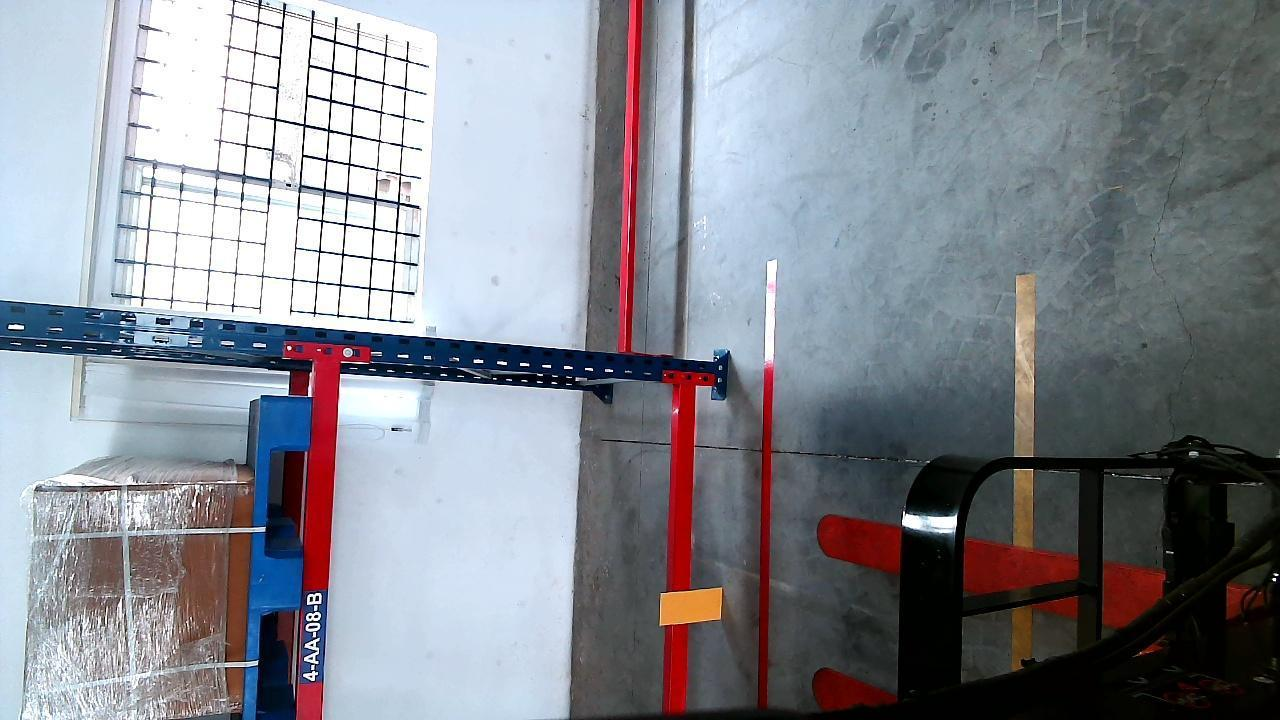h_rack: (300, 369, 340, 717), (669, 383, 699, 718)
orange_strip: (662, 587, 724, 624)
red_line: (749, 280, 782, 720)
small_pallet: (243, 403, 308, 720)
yellow_line: (1014, 259, 1037, 565)
